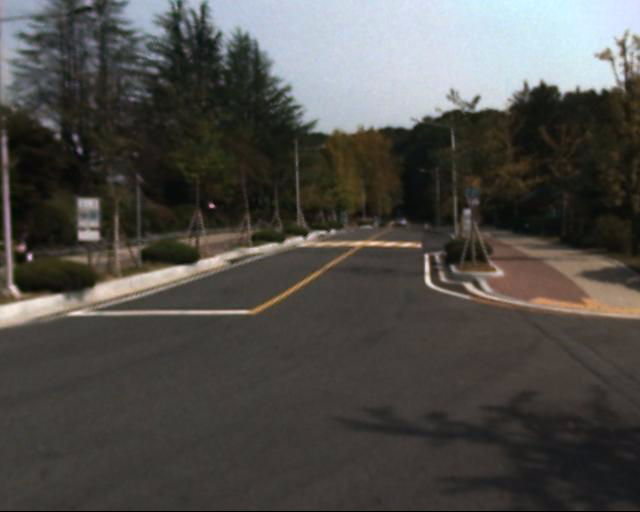person: (11, 206, 70, 301)
